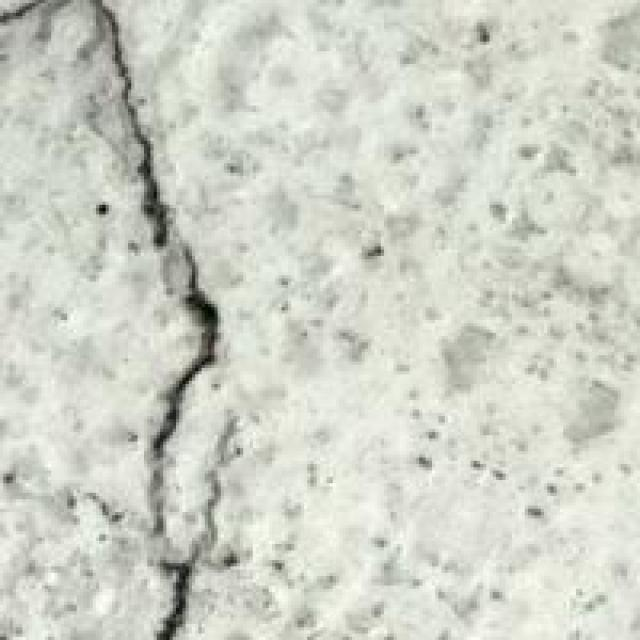crack: (0, 0, 234, 618)
